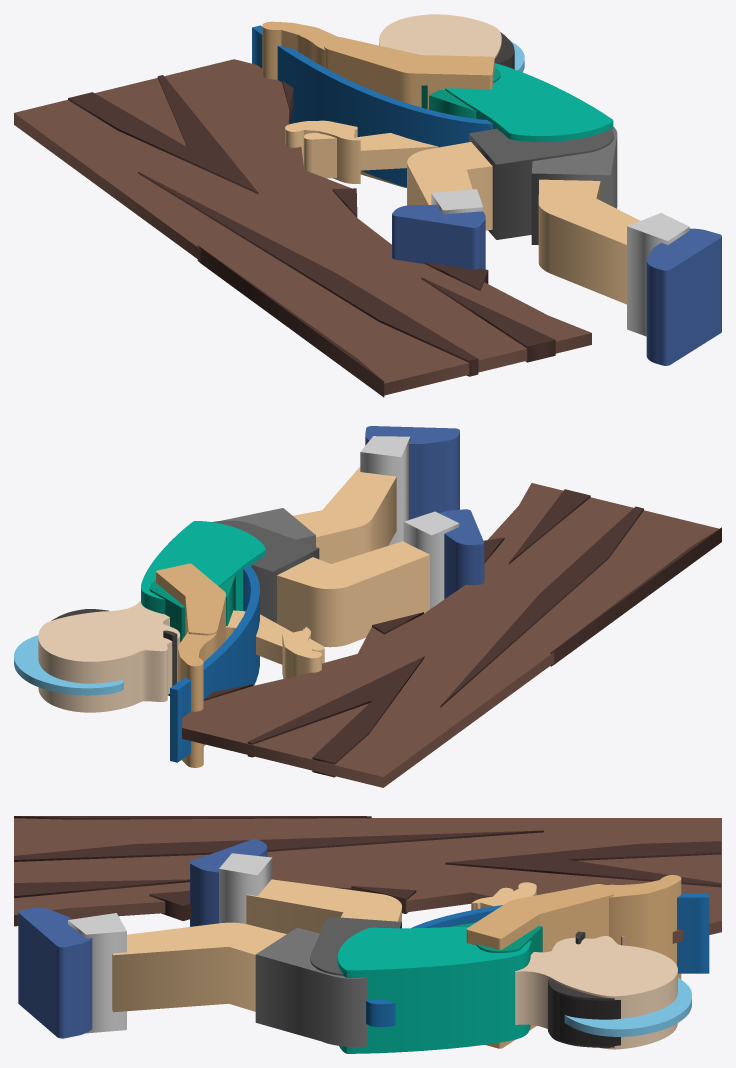
Rendered from emoji_u1f9d7_1f3fb_200d_2642.glb.
The picture shows the model from 3 angles, top to bottom: view 1: azimuth 30°, elevation 25°; view 2: azimuth 150°, elevation 25°; view 3: azimuth 270°, elevation 25°; orthographic projection. The views are drawn at different scales.
Parts seen in each view (by area): view 1: emoji_u1f9d7_1f3fb_200d_2642; view 2: emoji_u1f9d7_1f3fb_200d_2642; view 3: emoji_u1f9d7_1f3fb_200d_2642.
Boxes of the visible parts, x1,y1,x2,y2 form: emoji_u1f9d7_1f3fb_200d_2642: [14, 14, 721, 397]; emoji_u1f9d7_1f3fb_200d_2642: [14, 426, 721, 787]; emoji_u1f9d7_1f3fb_200d_2642: [14, 816, 721, 1053].
Bounding box in the file's own units: 0.0237 × 0.0058 × 0.0338.
